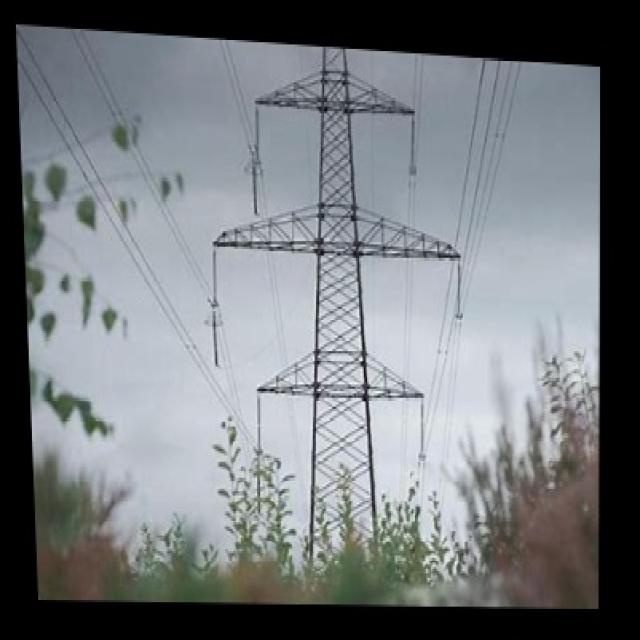utility poles: (210, 365, 468, 596)
